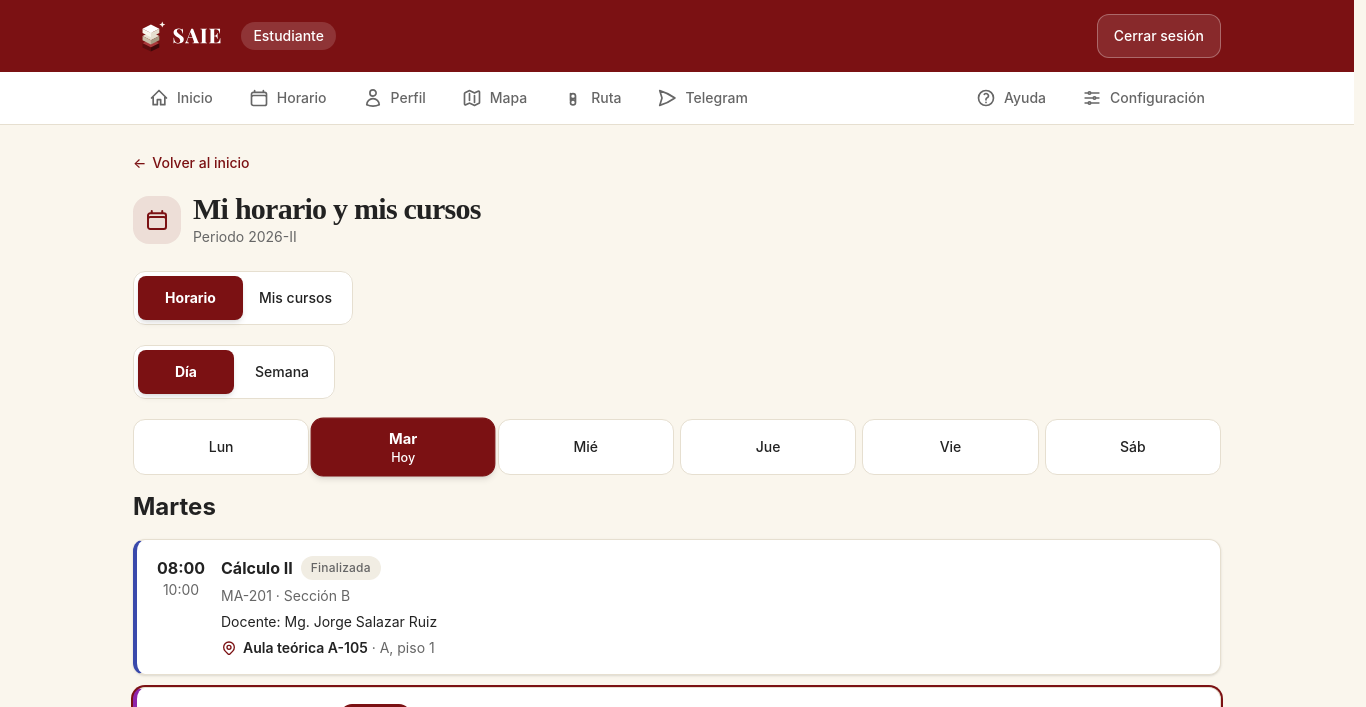
Test case: HorarioMisCursos (Issue #145 / 3.16) › mis cursos › agrupa las secciones de un mismo curso en un solo bloque
Click the button "Mis cursos".
click(296, 298)  # box [243,276,348,320]
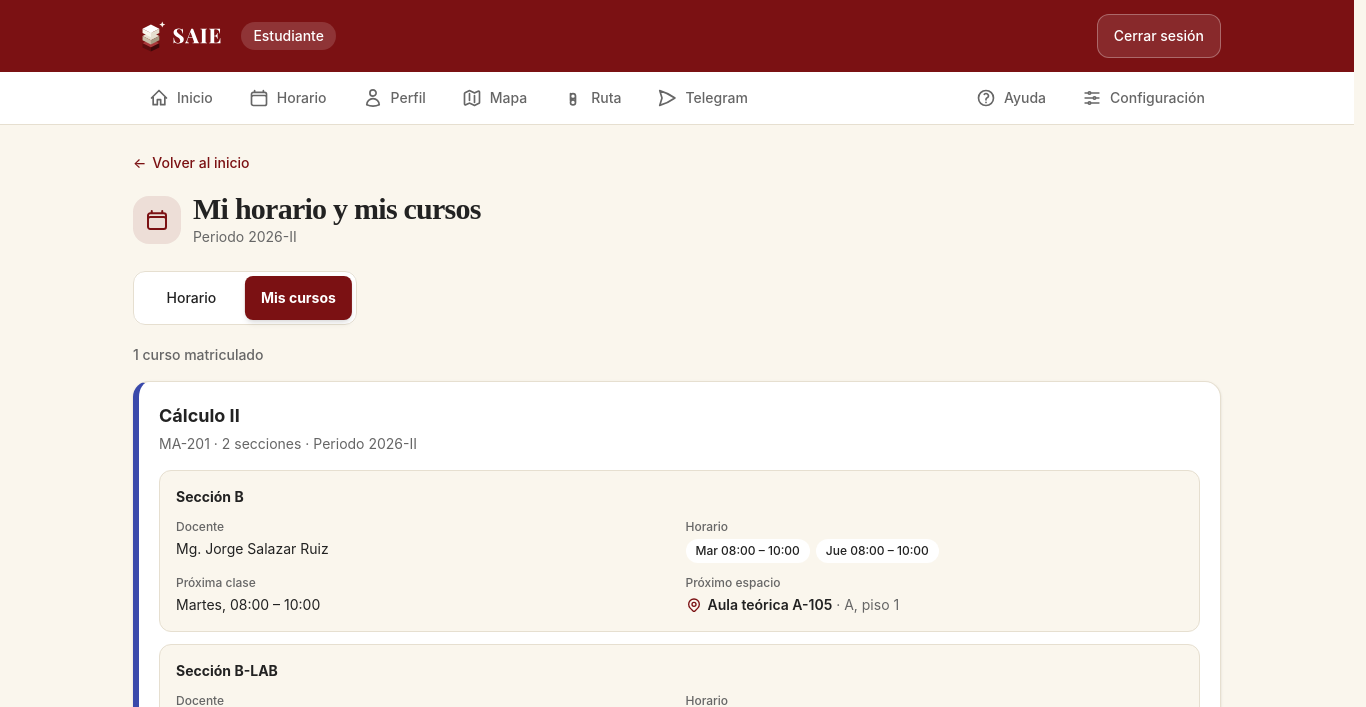
Expected: the text "1 curso matriculado" is shown, [133,346,264,363]
Expected: the text "MA-201 · 2 secciones · Periodo 2026-II" is shown, [159,435,417,452]
Expected: the heading "Sección B" is shown, [176,488,244,505]
